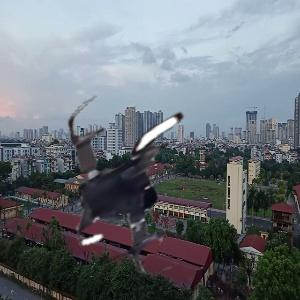drone: (39, 81, 242, 284)
